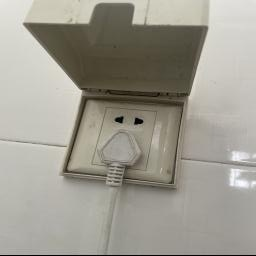outlet: (52, 88, 182, 192)
